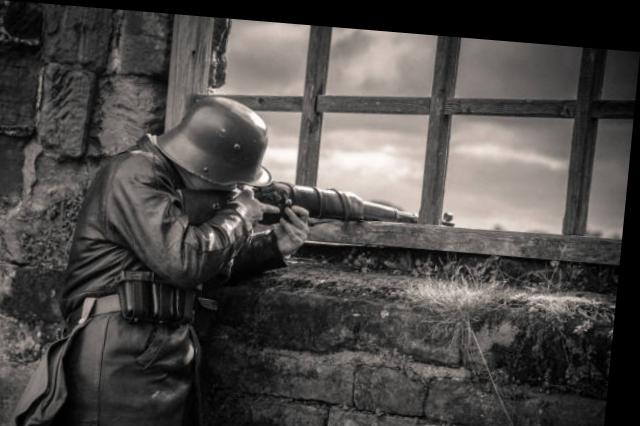other: (63, 84, 275, 412)
